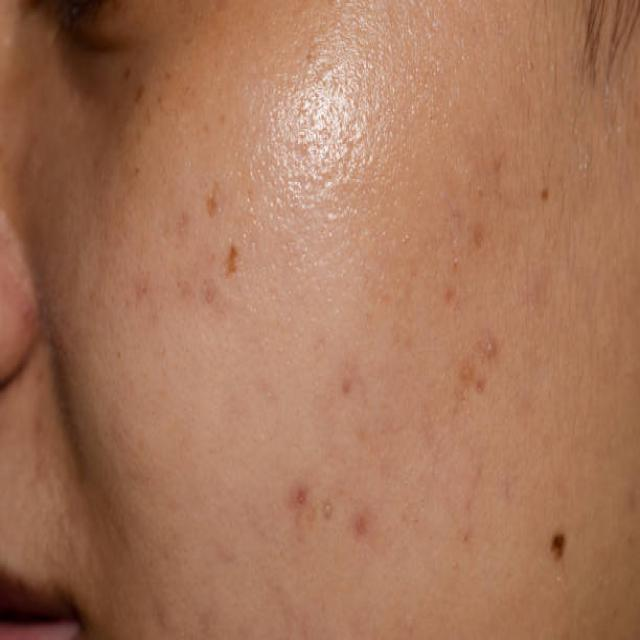dry: (87, 126, 213, 435), (238, 382, 414, 542), (394, 236, 529, 408), (182, 168, 318, 336), (325, 52, 402, 201)
